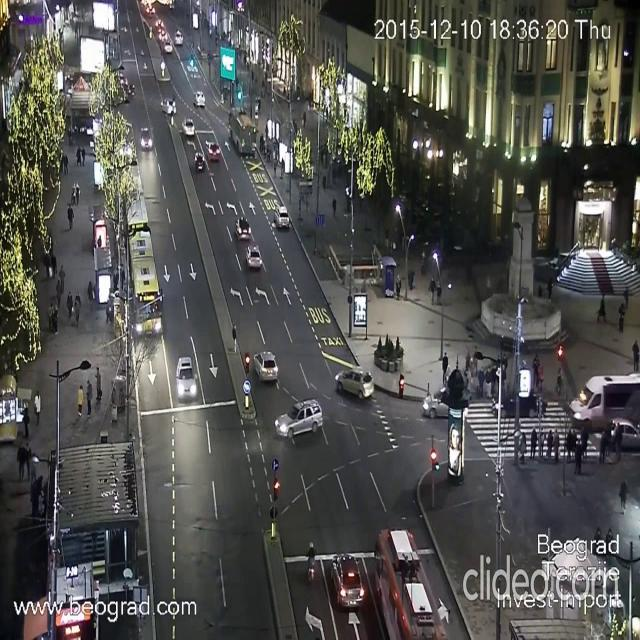bus: (374, 527, 449, 639), (572, 367, 640, 422), (128, 228, 160, 338), (119, 157, 149, 231), (231, 106, 255, 156)
car: (330, 553, 365, 611), (274, 398, 322, 438), (492, 383, 542, 416), (334, 368, 374, 400), (423, 388, 463, 420), (603, 419, 639, 449), (175, 355, 197, 401), (253, 350, 278, 383), (244, 244, 262, 270), (274, 206, 290, 228), (236, 212, 249, 238), (193, 148, 204, 175), (207, 142, 220, 164), (139, 130, 153, 149), (162, 99, 176, 112), (196, 89, 204, 109), (185, 120, 193, 139), (174, 30, 180, 46), (165, 40, 171, 51)
